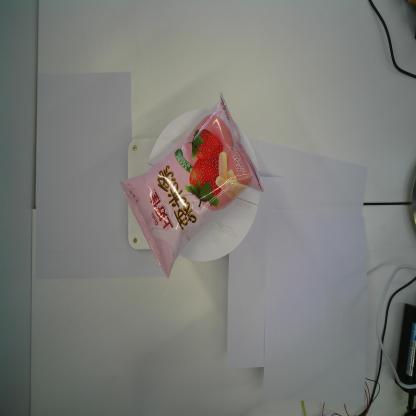Puffed Food: (120, 92, 265, 279)
